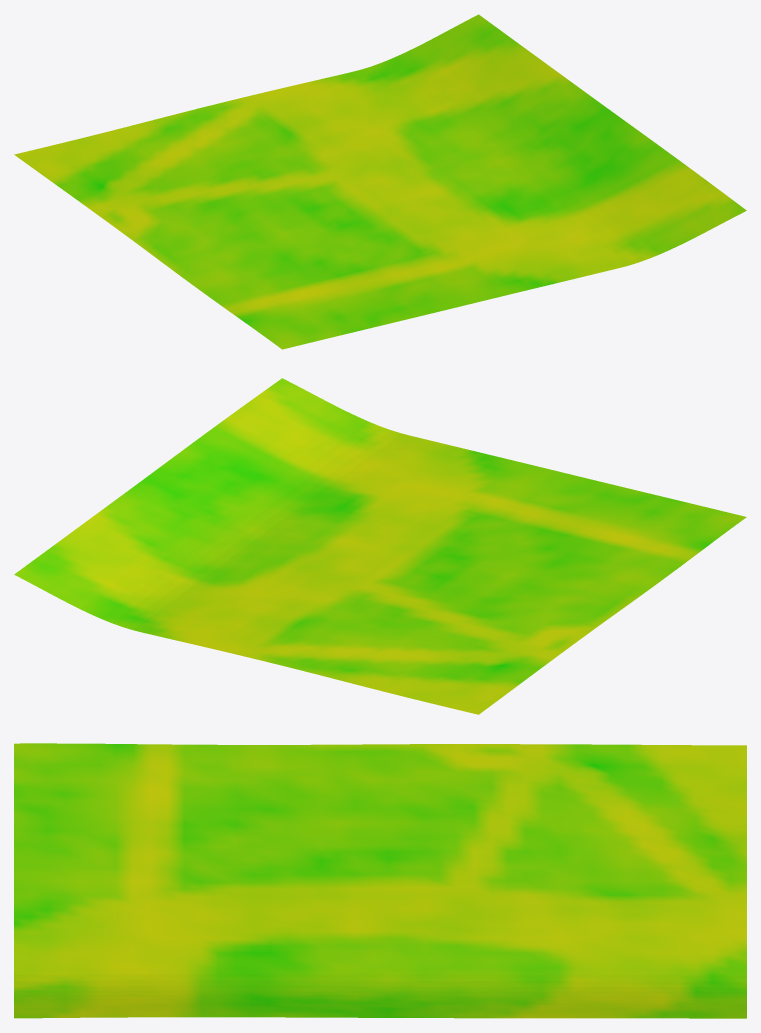
Rendered from terrain_2_0.glb.
3 views of the same model, one above another, from view 1: azimuth 30°, elevation 25°; view 2: azimuth 150°, elevation 25°; view 3: azimuth 270°, elevation 25° (orthographic). The views are drawn at different scales.
Parts seen in each view (by area): view 1: terrain_2_0; view 2: terrain_2_0; view 3: terrain_2_0.
Part boxes in pixels (x1,y1,x2,y2): terrain_2_0: (14, 14, 746, 349); terrain_2_0: (14, 378, 746, 714); terrain_2_0: (14, 743, 746, 1018).
Size of the model in its own units: 85 by 4.87 by 85.
